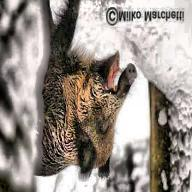boar: (18, 0, 145, 182)
